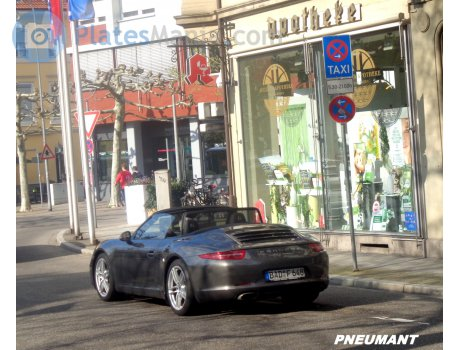License Plates: (267, 268, 306, 276)
